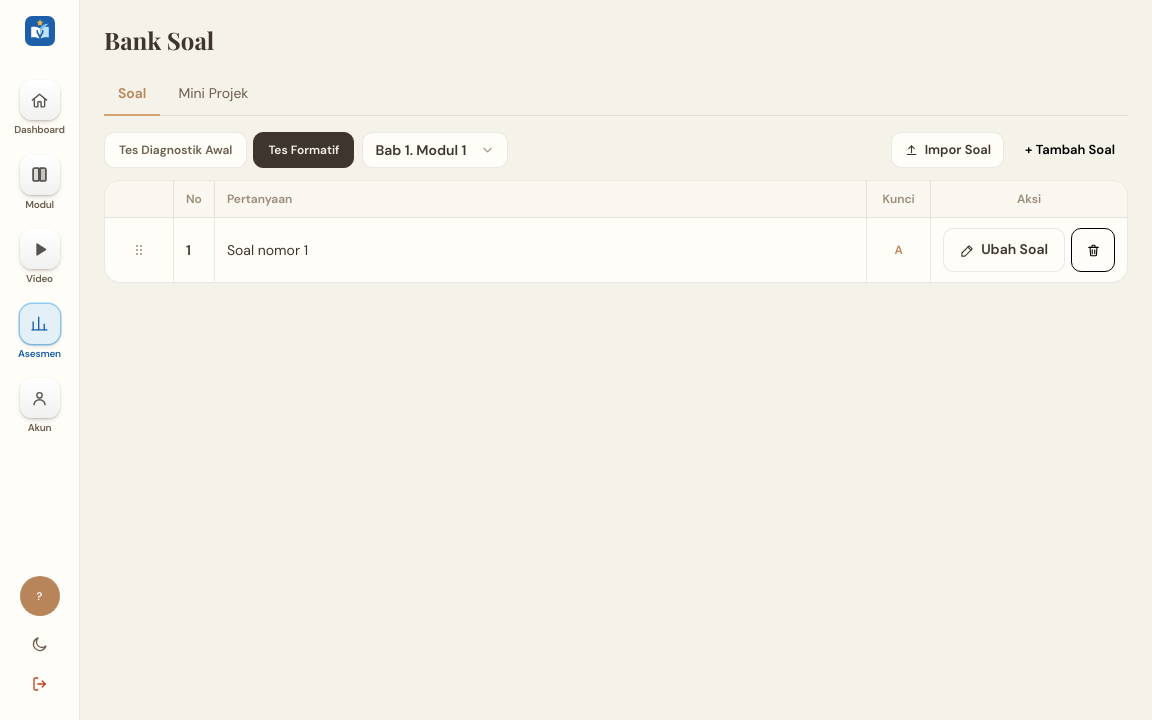
BankSoal › shows the delete confirmation modal ("Hapus soal…") when Hapus is clicked
The image size is (1152, 720).
Step 1. Click the button named "Hapus soal urutan" → click(1093, 250), box [1071,228,1115,272]
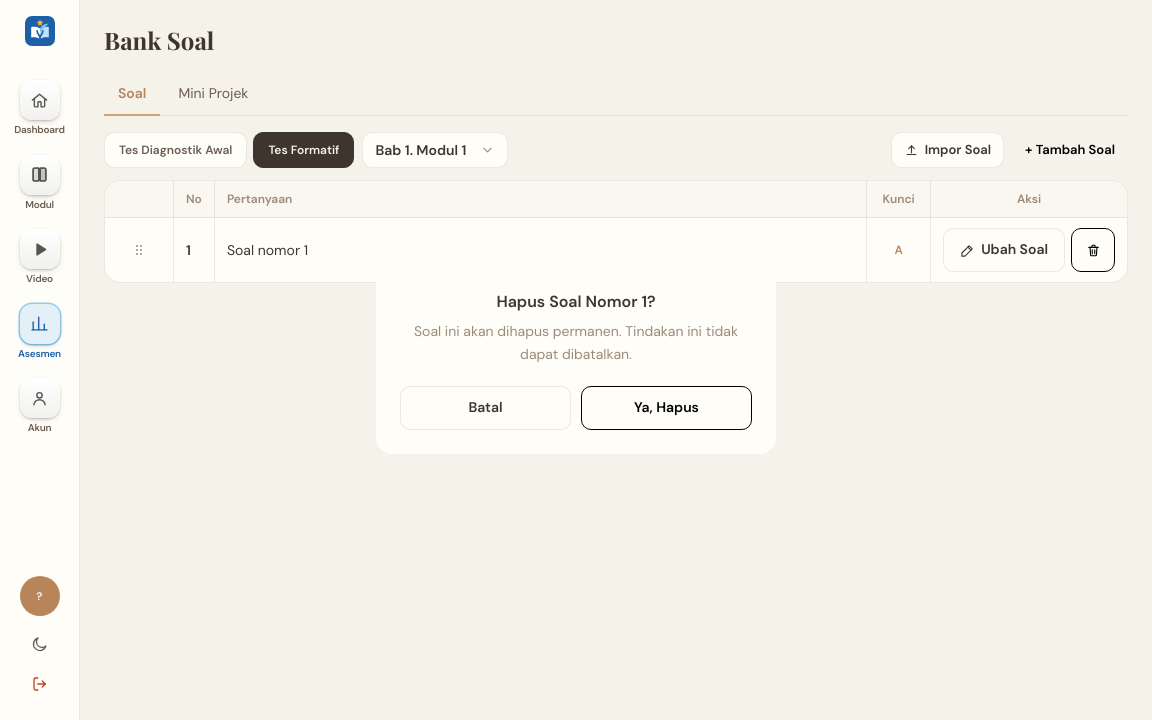
Now the heading "Hapus Soal Nomor 1?" is shown, box [496,291,656,312]
